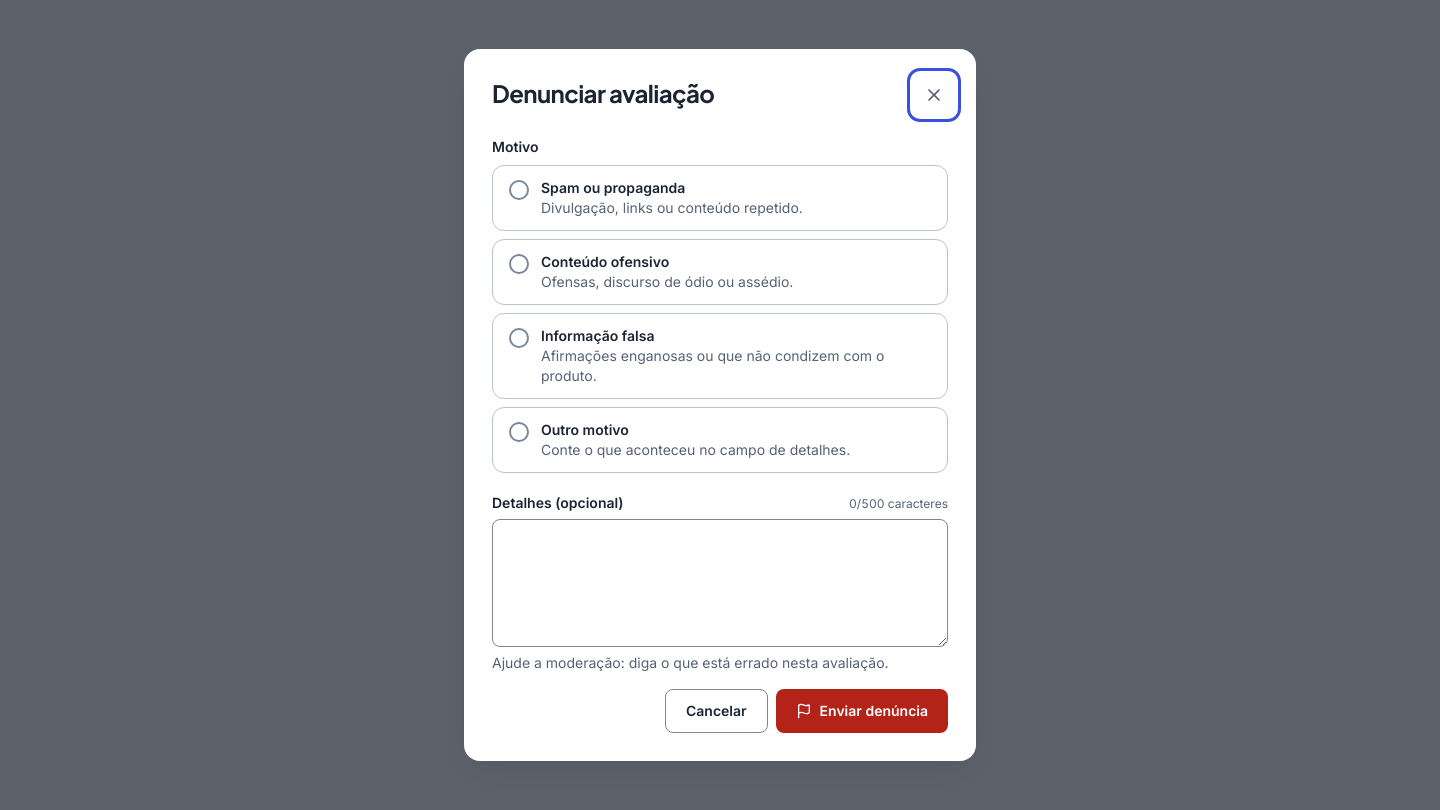
Scenario: Modal de denúncia › 429 mostra a mensagem com o tempo de espera
What coordinates should you click on to do the following:
click the radio button labelled "Outro motivo"
I would click on:
 (720, 440)
Its box is [492, 407, 948, 473].
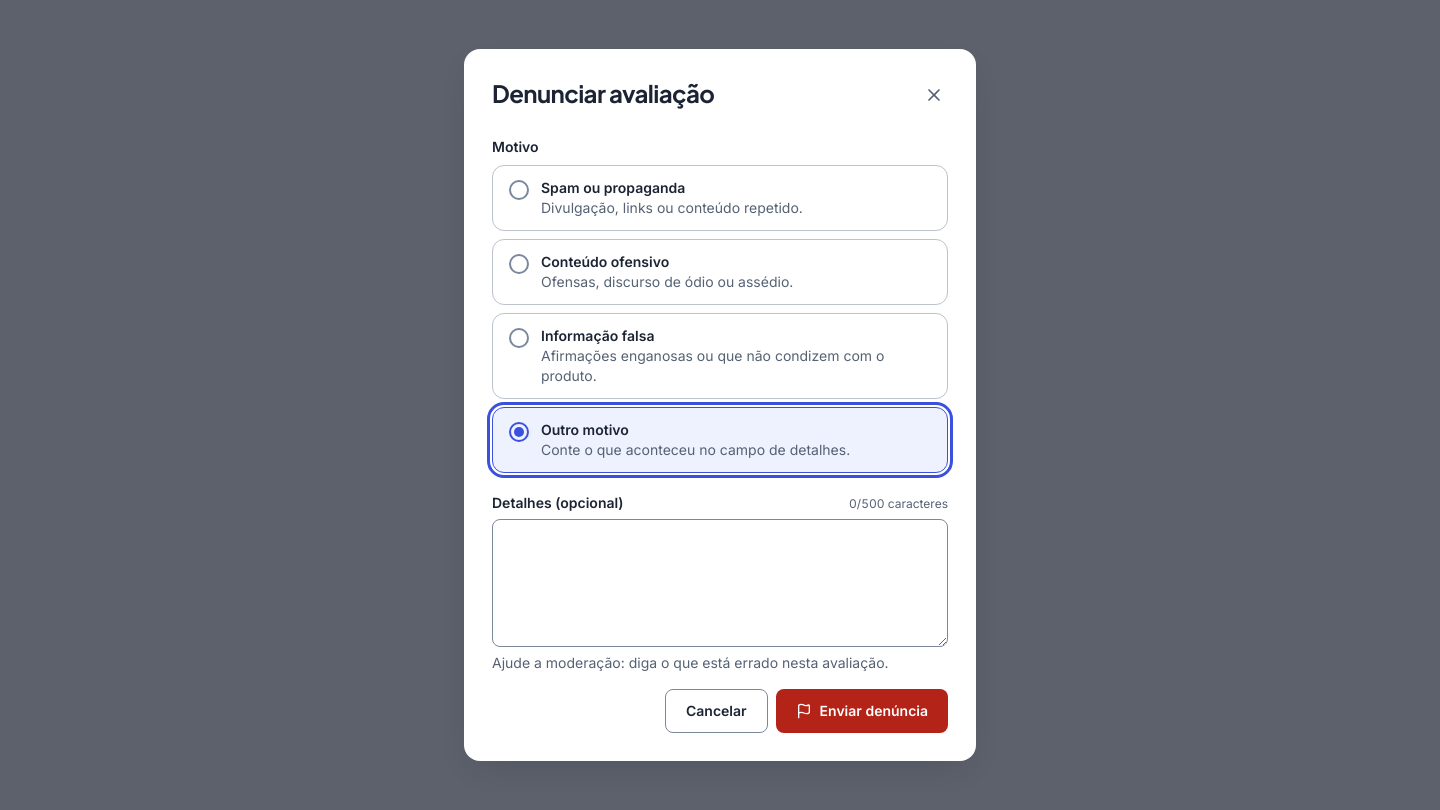
What coordinates should you click on to do the following:
click the button "Enviar denúncia"
I would click on:
 (862, 711)
Its box is [776, 689, 948, 733].
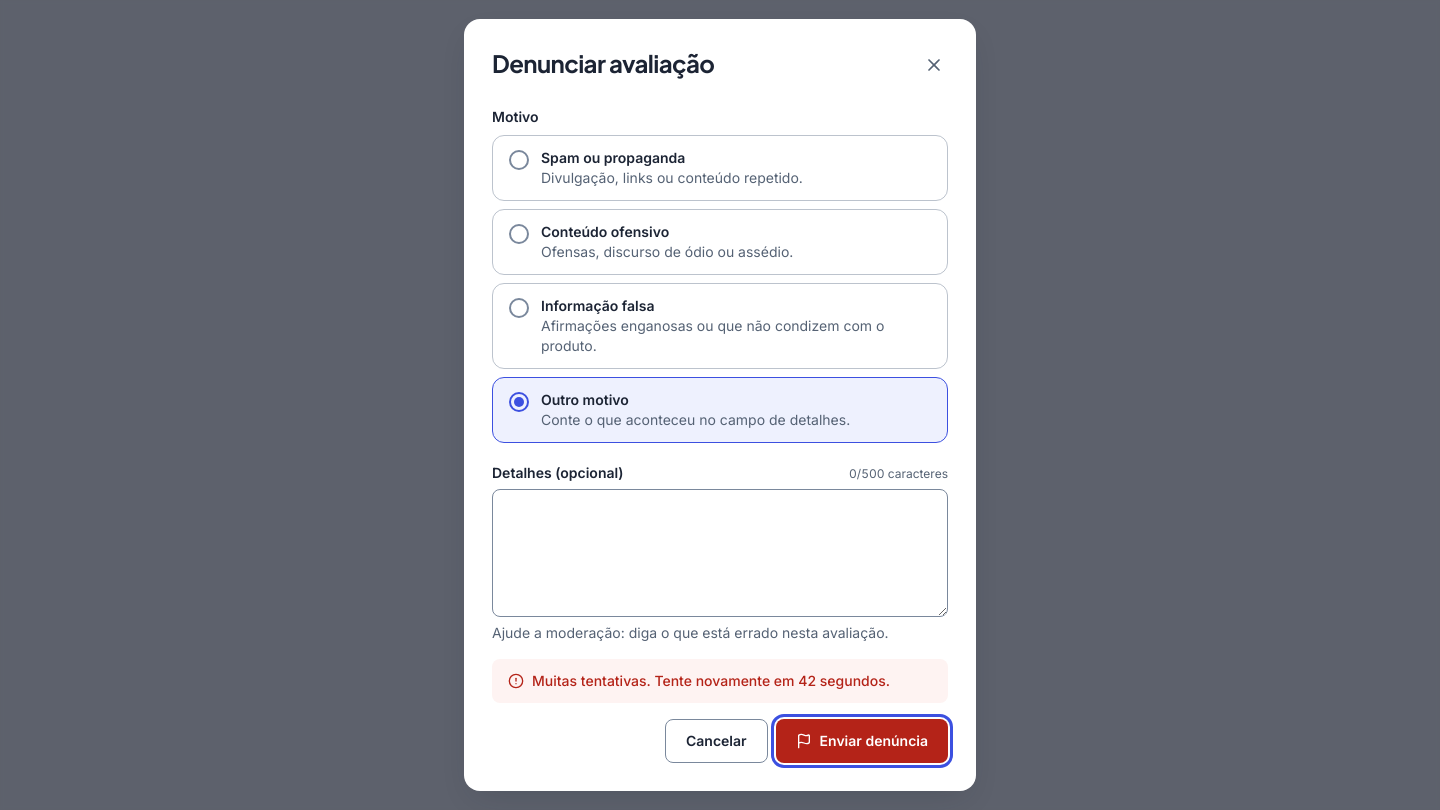
Result: the message shows "Tente novamente em 42 segundos." at [532, 672, 890, 689]
